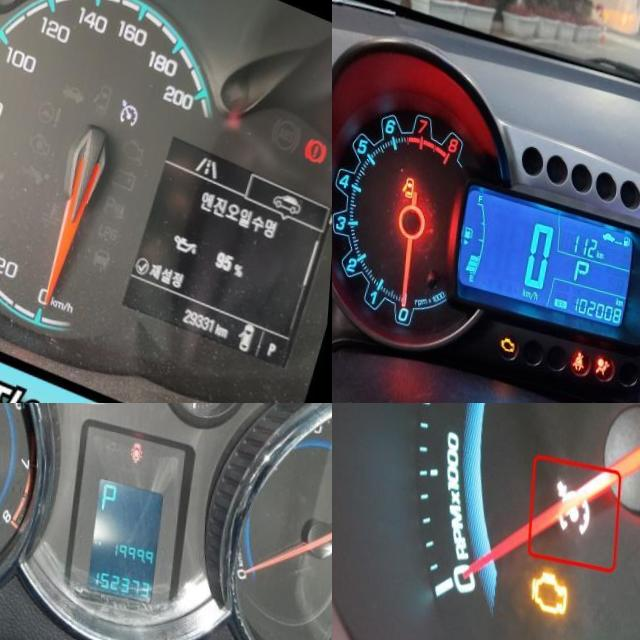Doors: (133, 426, 147, 450)
